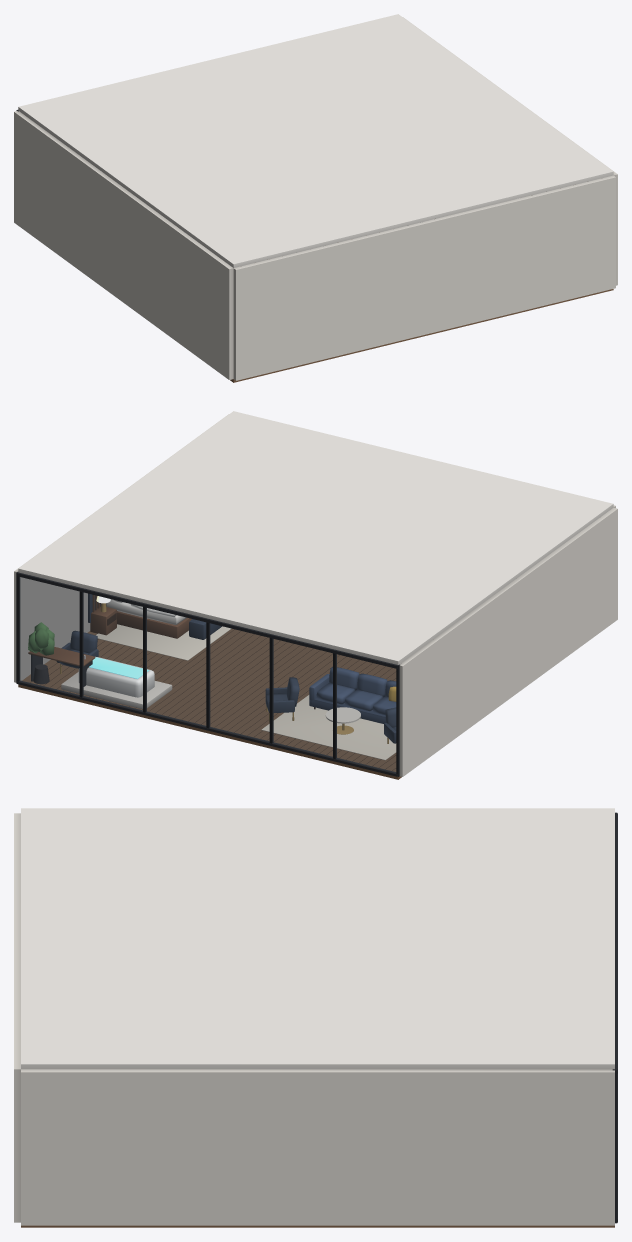
Rendered from tk-sky.glb.
3 renders of one model, top to bottom at view 1: azimuth 30°, elevation 25°; view 2: azimuth 150°, elevation 25°; view 3: azimuth 270°, elevation 25°, orthographic. The views are drawn at different scales.
Visible parts, largest first — view 1: Room_ceiling, Room_wall, Room_floor; view 2: Room_ceiling, Room_glass, Room_wall, Room_floor, Room_frameDark, Room_rug, Room_fabric, Room_woodDark, Room_fabric2, Room_wood, Room_stone, Room_ceramic (+3 smaller); view 3: Room_ceiling, Room_wall, Room_floor, Room_frameDark.
Boxes of the visible parts, box(x1,y1,x2,y2) form: Room_ceiling: box(18, 14, 613, 267); Room_wall: box(14, 17, 617, 380); Room_floor: box(230, 289, 613, 382); Room_ceiling: box(18, 411, 613, 664); Room_glass: box(20, 577, 395, 772); Room_wall: box(14, 414, 617, 776); Room_floor: box(18, 628, 401, 779); Room_frameDark: box(16, 572, 399, 776); Room_rug: box(95, 624, 396, 760); Room_fabric: box(309, 667, 396, 723); Room_woodDark: box(30, 613, 395, 770); Room_fabric2: box(56, 619, 396, 743); Room_wood: box(28, 595, 191, 666); Room_stone: box(61, 672, 360, 723); Room_ceramic: box(78, 656, 154, 697); Room_ceiling: box(21, 808, 614, 1069); Room_wall: box(14, 813, 614, 1225); Room_floor: box(21, 1225, 614, 1227); Room_frameDark: box(612, 812, 617, 1223).
Size of the model in its own units: 10.64 by 3.1 by 10.37.
